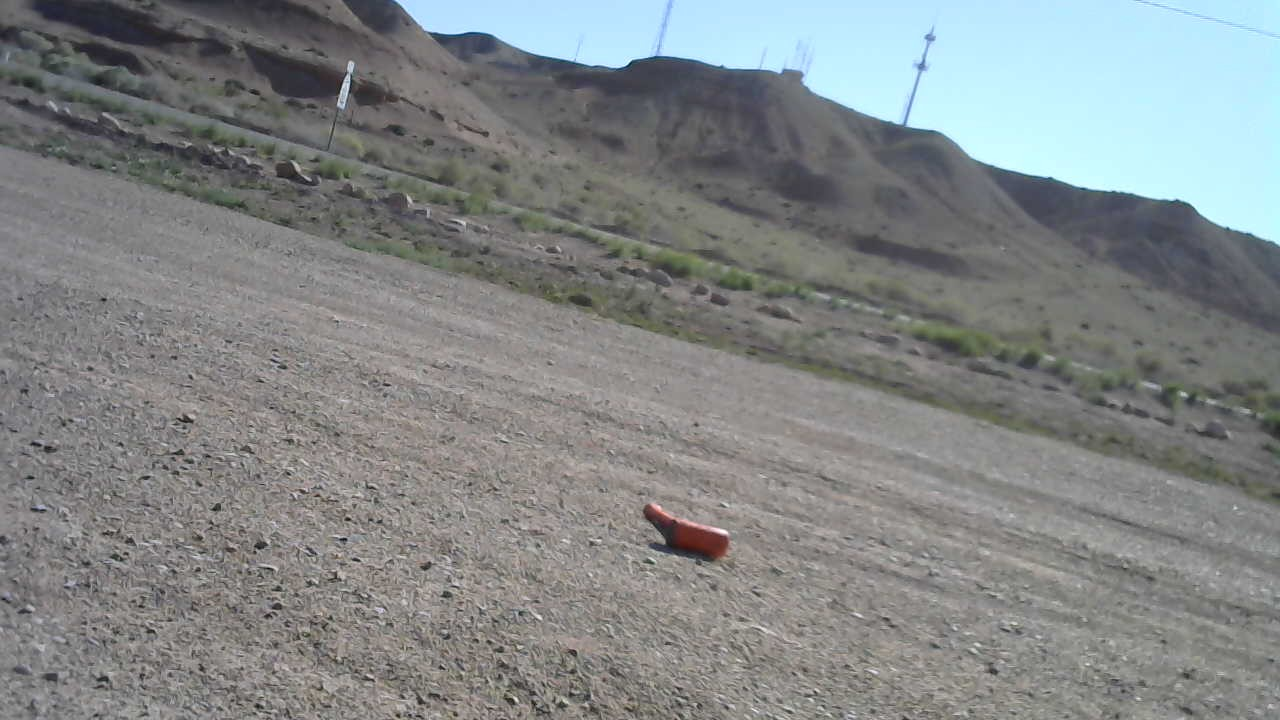hammer: (643, 496, 731, 563)
